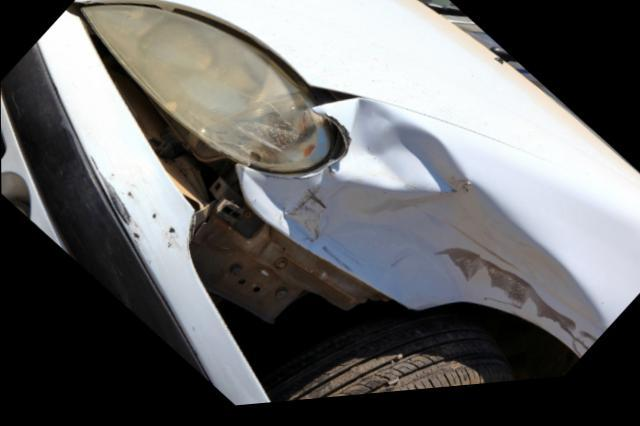dent: (233, 104, 606, 371)
dislocated part: (0, 6, 405, 410)
lamp broken: (72, 0, 345, 184)
scratch: (86, 158, 186, 272)
